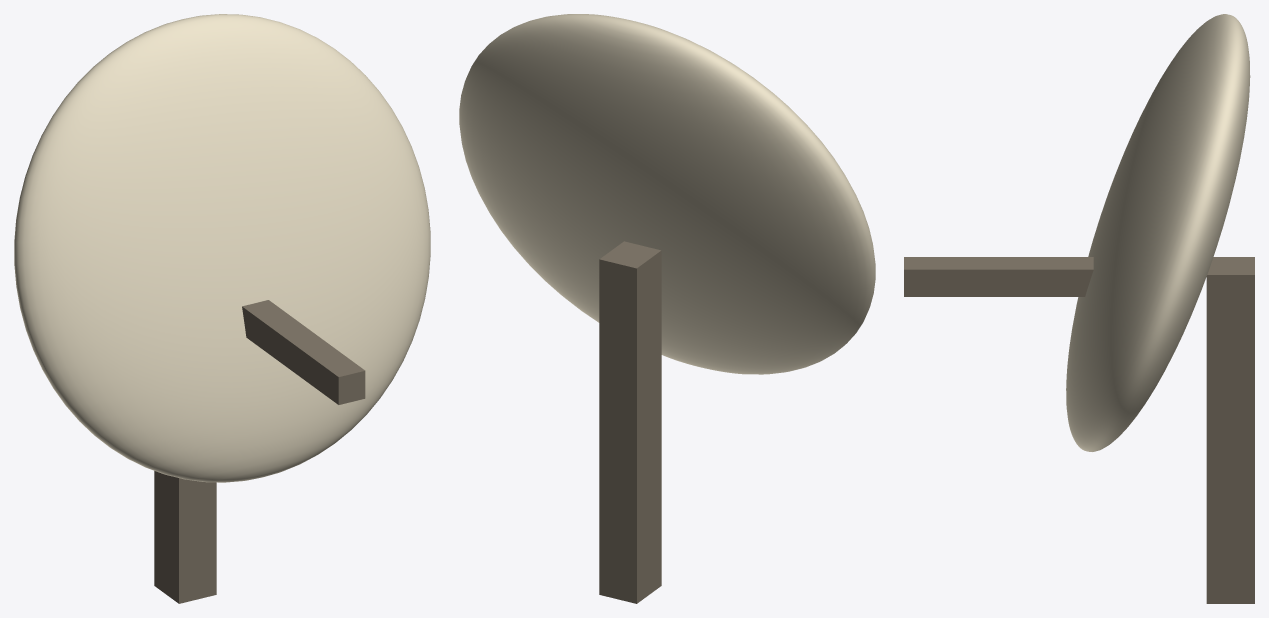
Rendered from utility_dish.glb.
3 views of the same model, side by side, from view 1: azimuth 30°, elevation 25°; view 2: azimuth 150°, elevation 25°; view 3: azimuth 270°, elevation 25° (orthographic).
Visible parts, largest first — view 1: _MeshInstance3D_11, _MeshInstance3D_10, _MeshInstance3D_12; view 2: _MeshInstance3D_11, _MeshInstance3D_10; view 3: _MeshInstance3D_11, _MeshInstance3D_10, _MeshInstance3D_12.
Part boxes in pixels (<box>): _MeshInstance3D_11: <box>14,14,430,482</box>; _MeshInstance3D_10: <box>154,471,216,603</box>; _MeshInstance3D_12: <box>242,300,365,404</box>; _MeshInstance3D_11: <box>459,14,875,374</box>; _MeshInstance3D_10: <box>599,241,661,603</box>; _MeshInstance3D_11: <box>1066,14,1250,451</box>; _MeshInstance3D_10: <box>1206,257,1254,603</box>; _MeshInstance3D_12: <box>904,257,1093,296</box>.
Size of the model in its own units: 0.3796 by 0.509 by 0.29.
